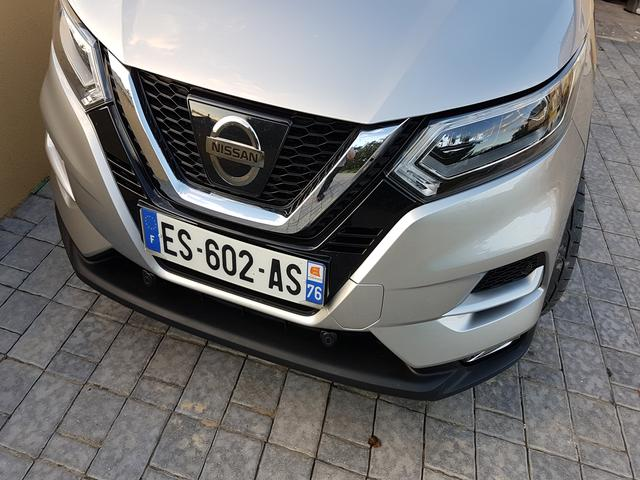Quashquai: (126, 193, 336, 317)
